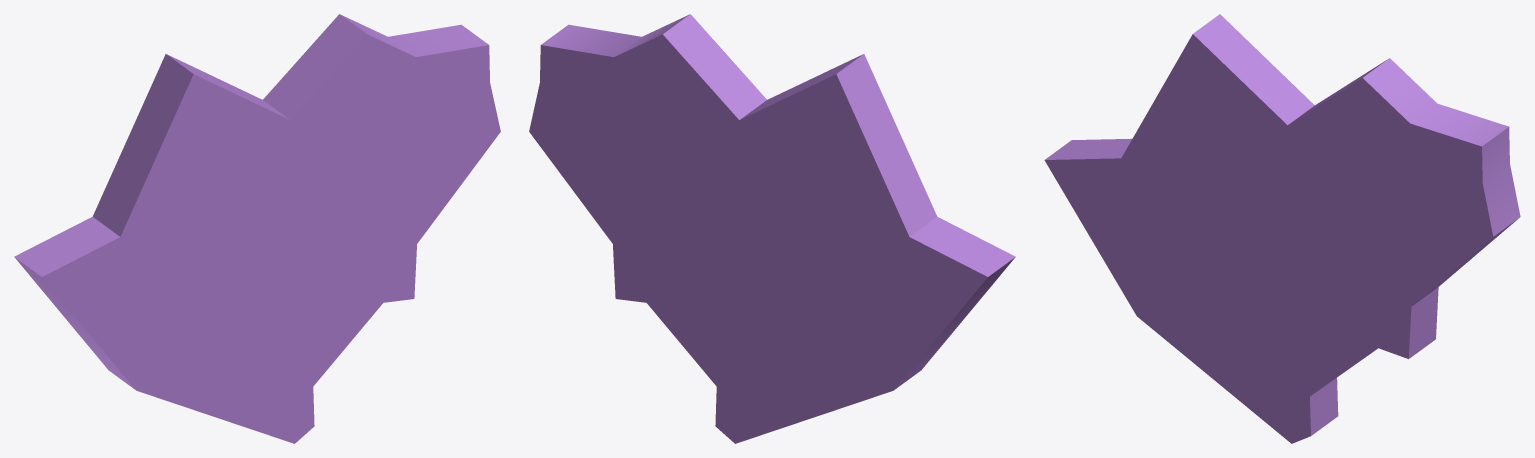
Rendered from GomezPalacio.fbx.
3 renders of one model, left to right at view 1: azimuth 30°, elevation 25°; view 2: azimuth 150°, elevation 25°; view 3: azimuth 330°, elevation 25°, orthographic. The views are drawn at different scales.
Parts seen in each view (by area): view 1: gomez_palacio; view 2: gomez_palacio; view 3: gomez_palacio.
Part boxes in pixels (left/top/right/bottom): gomez_palacio: left=14, top=14, right=500, bottom=443; gomez_palacio: left=529, top=14, right=1015, bottom=443; gomez_palacio: left=1044, top=14, right=1520, bottom=443.
Size of the model in its own units: 76.16 by 62.56 by 8.
